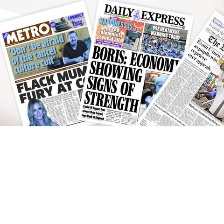news_paper: (74, 1, 195, 126), (0, 0, 93, 126), (128, 9, 224, 127)
